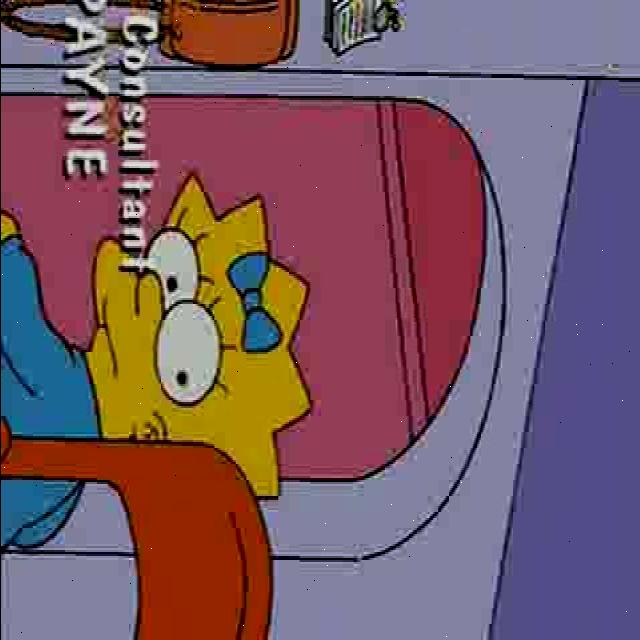Maggie Simpson: (76, 164, 312, 500)
